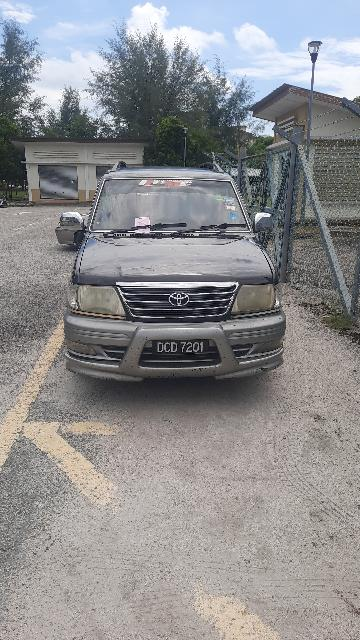License_Plate: (155, 337, 216, 357)
car: (51, 157, 297, 388)
